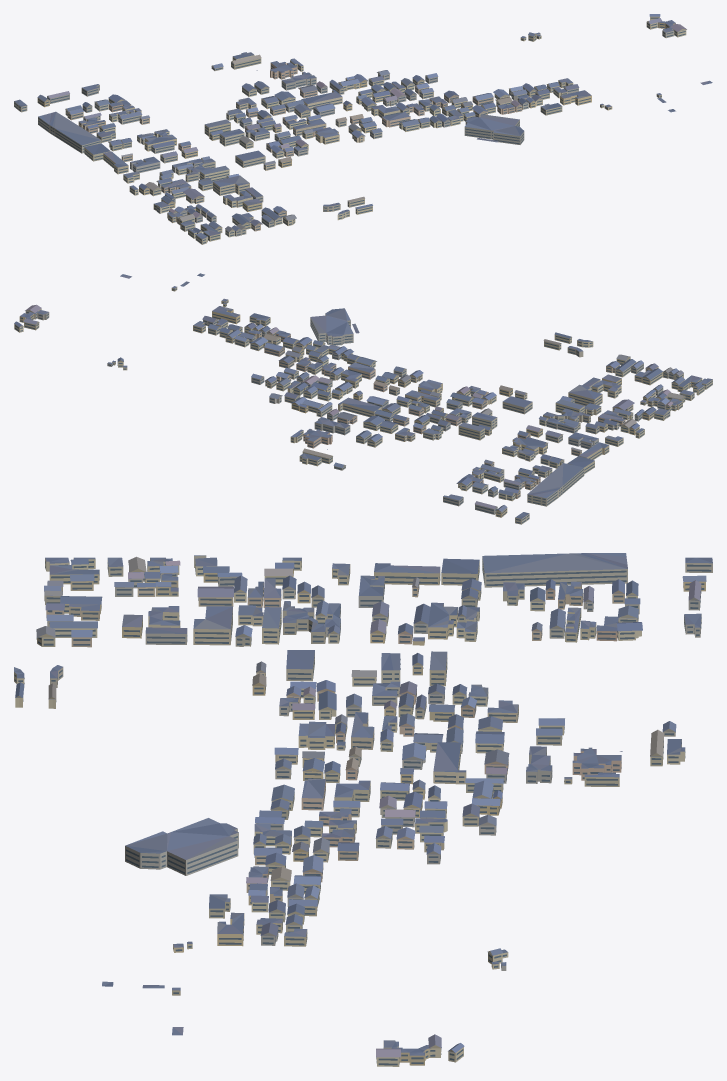
The model's file is ART_EastHikoneNorth.lod.glb.
3 views of the same model, one above another, from view 1: azimuth 30°, elevation 25°; view 2: azimuth 150°, elevation 25°; view 3: azimuth 270°, elevation 25° (orthographic). The views are drawn at different scales.
Parts seen in each view (by area): view 1: ART_EastHikoneNorth; view 2: ART_EastHikoneNorth; view 3: ART_EastHikoneNorth.
Boxes of the visible parts, x1,y1,x2,y2 form: ART_EastHikoneNorth: (14,14,712,244); ART_EastHikoneNorth: (14,273,712,524); ART_EastHikoneNorth: (14,553,712,1066).
Bounding box in the file's own units: 670 × 10 × 396.
